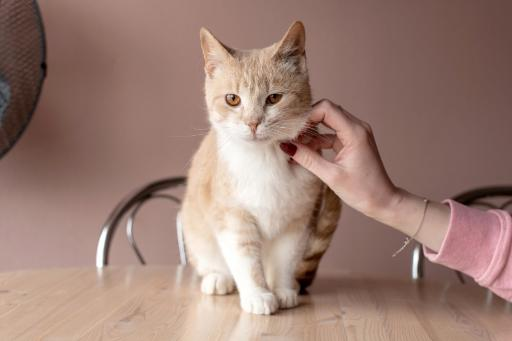cat_sitting: (181, 22, 341, 315)
